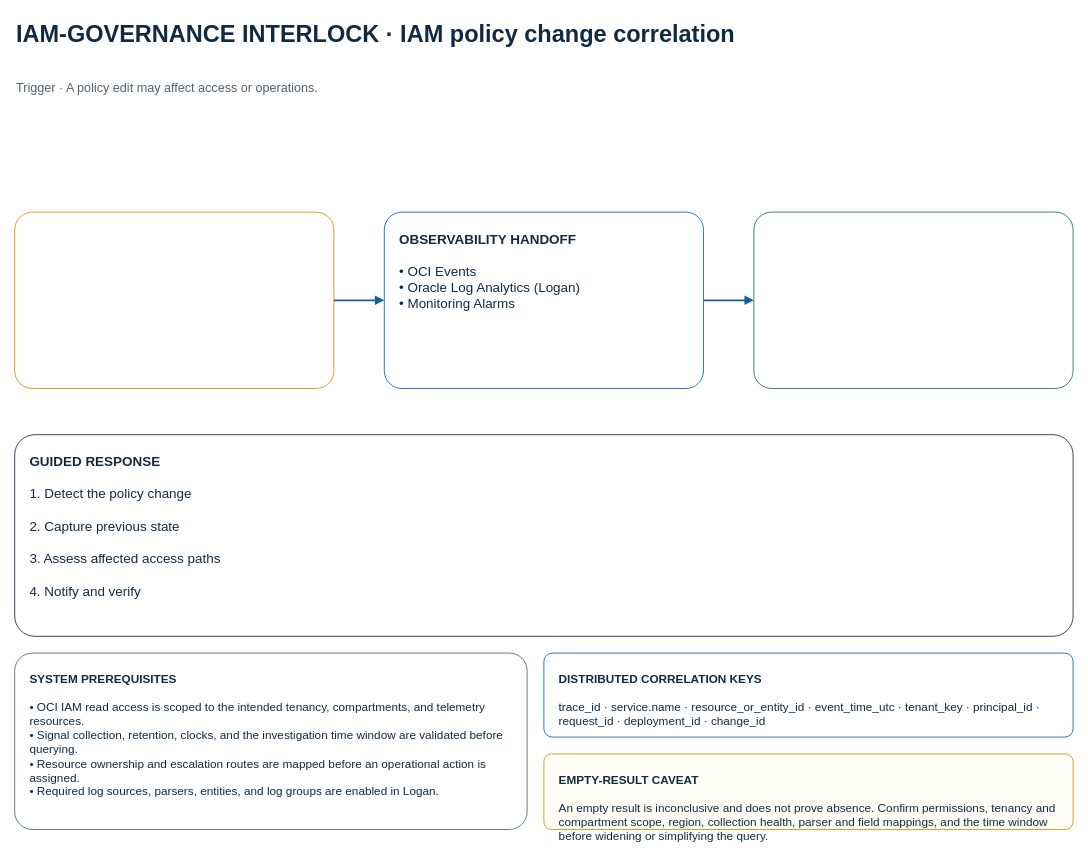
This 1088x858 diagram has some shape labels left out. The shapes that lost their labels are listed below. From the top down, each one's centre as x and y in pixels, then its label:
At point 174,299: "SOURCE EVIDENCE • Audit events • IAM policy change • Affected resources".
At point 913,299: "OPERATIONAL OUTCOME • Connect policy intent, change, and service impact.".
